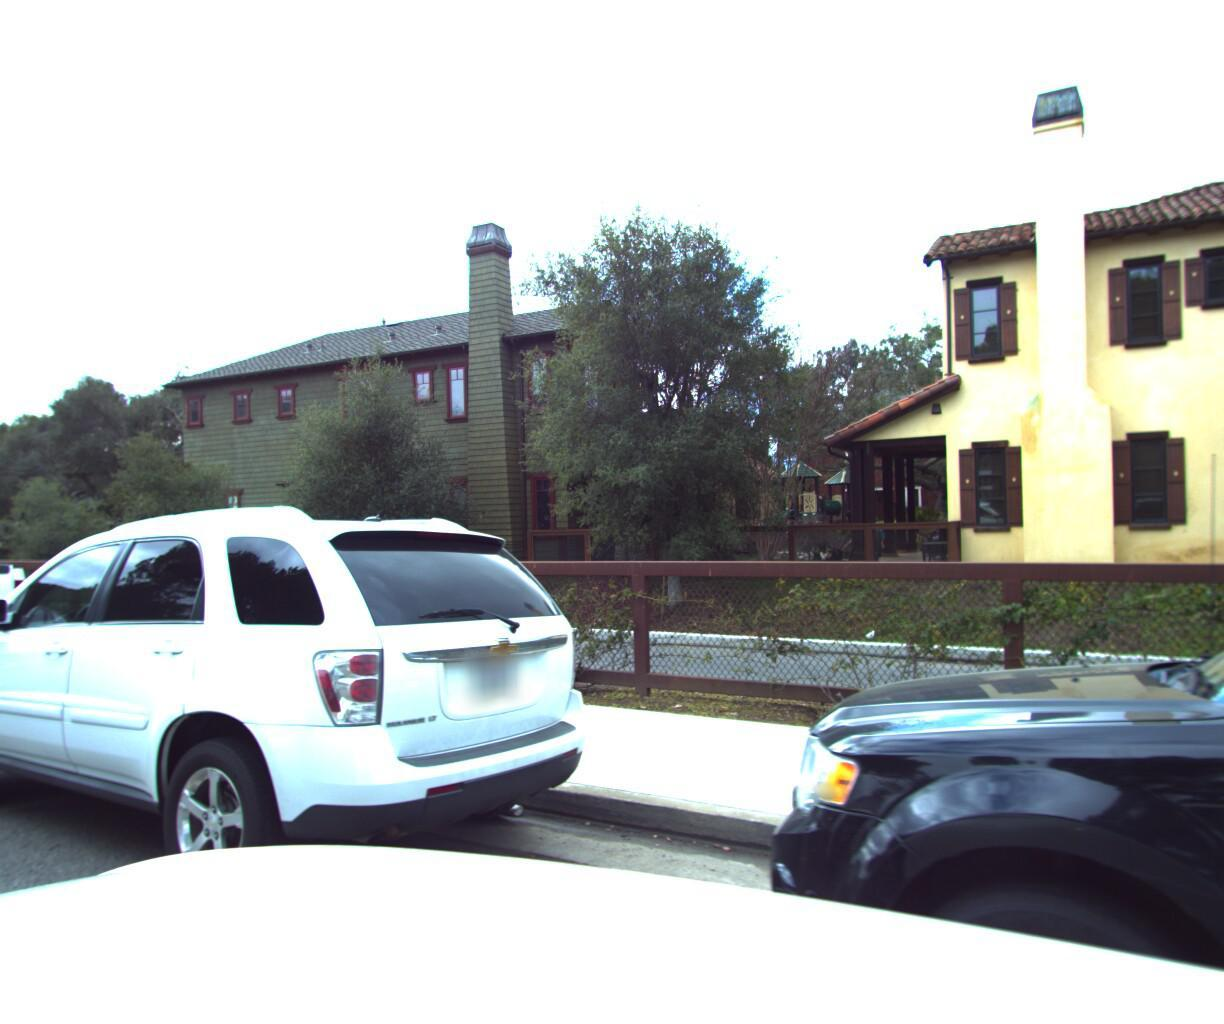car: (0, 486, 621, 982), (0, 497, 61, 792)
